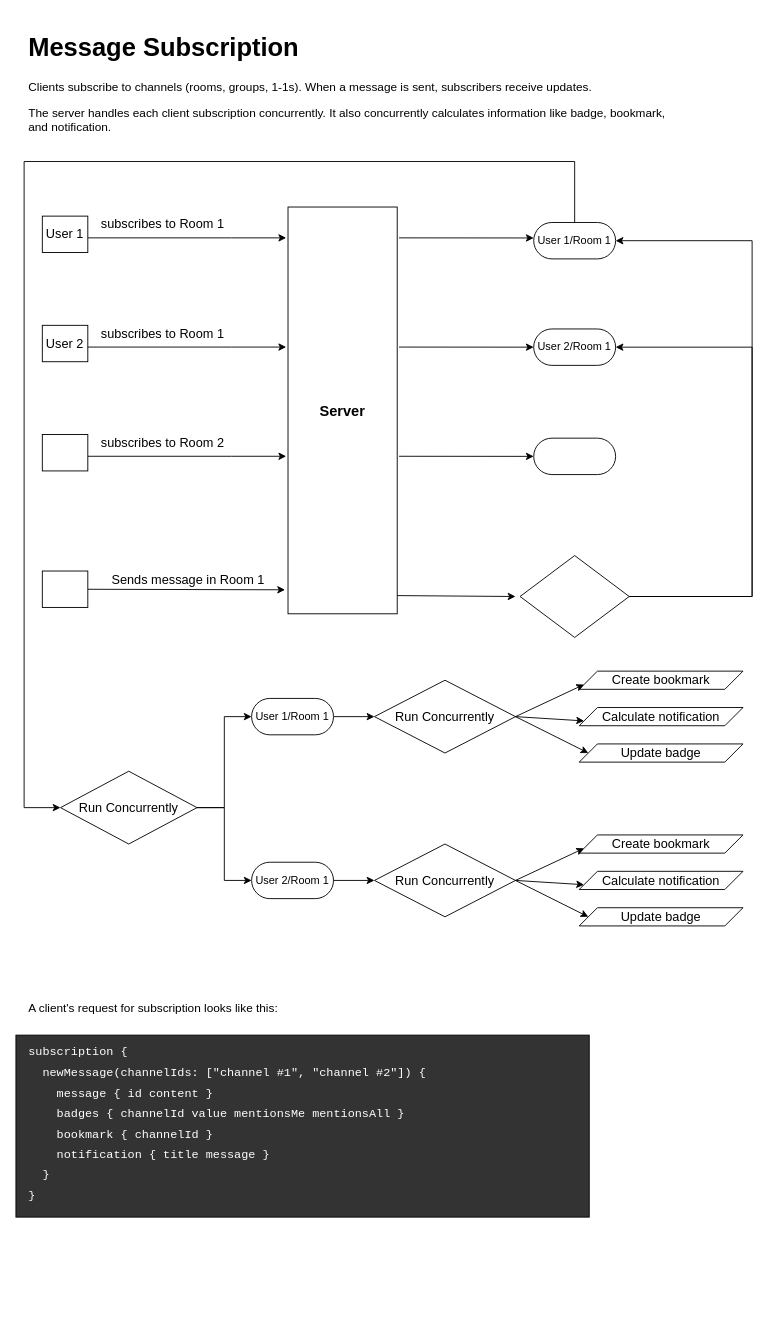
Image size: 775x1341. Some labels were removed from this diagram. The centre of each missing label's shape, as x and y in pixels:
Triggers Subscriptions: point 574,596
User 3: point 64,452
User 3/Room 2: point 574,456
User 4: point 64,588
